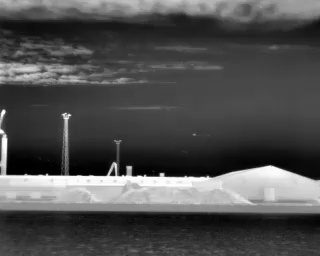BIRD: (191, 131, 198, 138)
